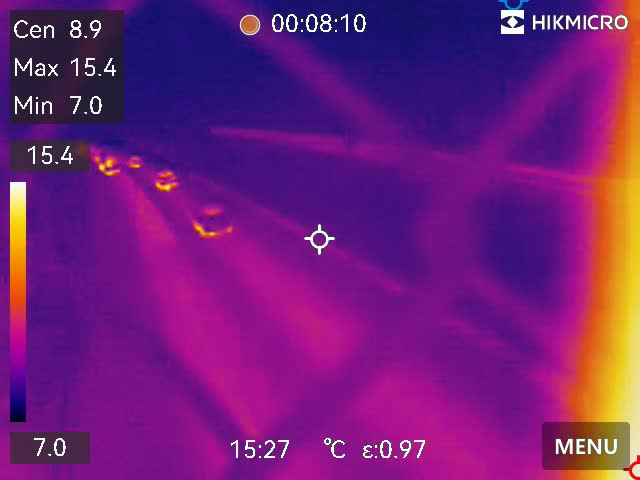vehicle: (188, 196, 234, 241), (91, 153, 129, 180), (152, 162, 181, 195), (125, 152, 142, 171)
